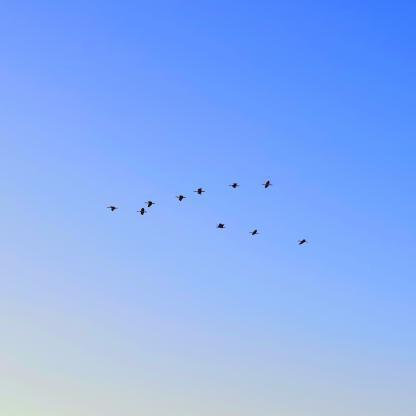bird: (261, 180, 272, 188), (194, 188, 206, 195), (249, 229, 260, 236), (145, 200, 156, 207), (137, 208, 147, 215), (107, 206, 119, 211), (228, 183, 239, 188), (177, 195, 186, 201), (297, 240, 306, 245), (216, 224, 227, 228)
